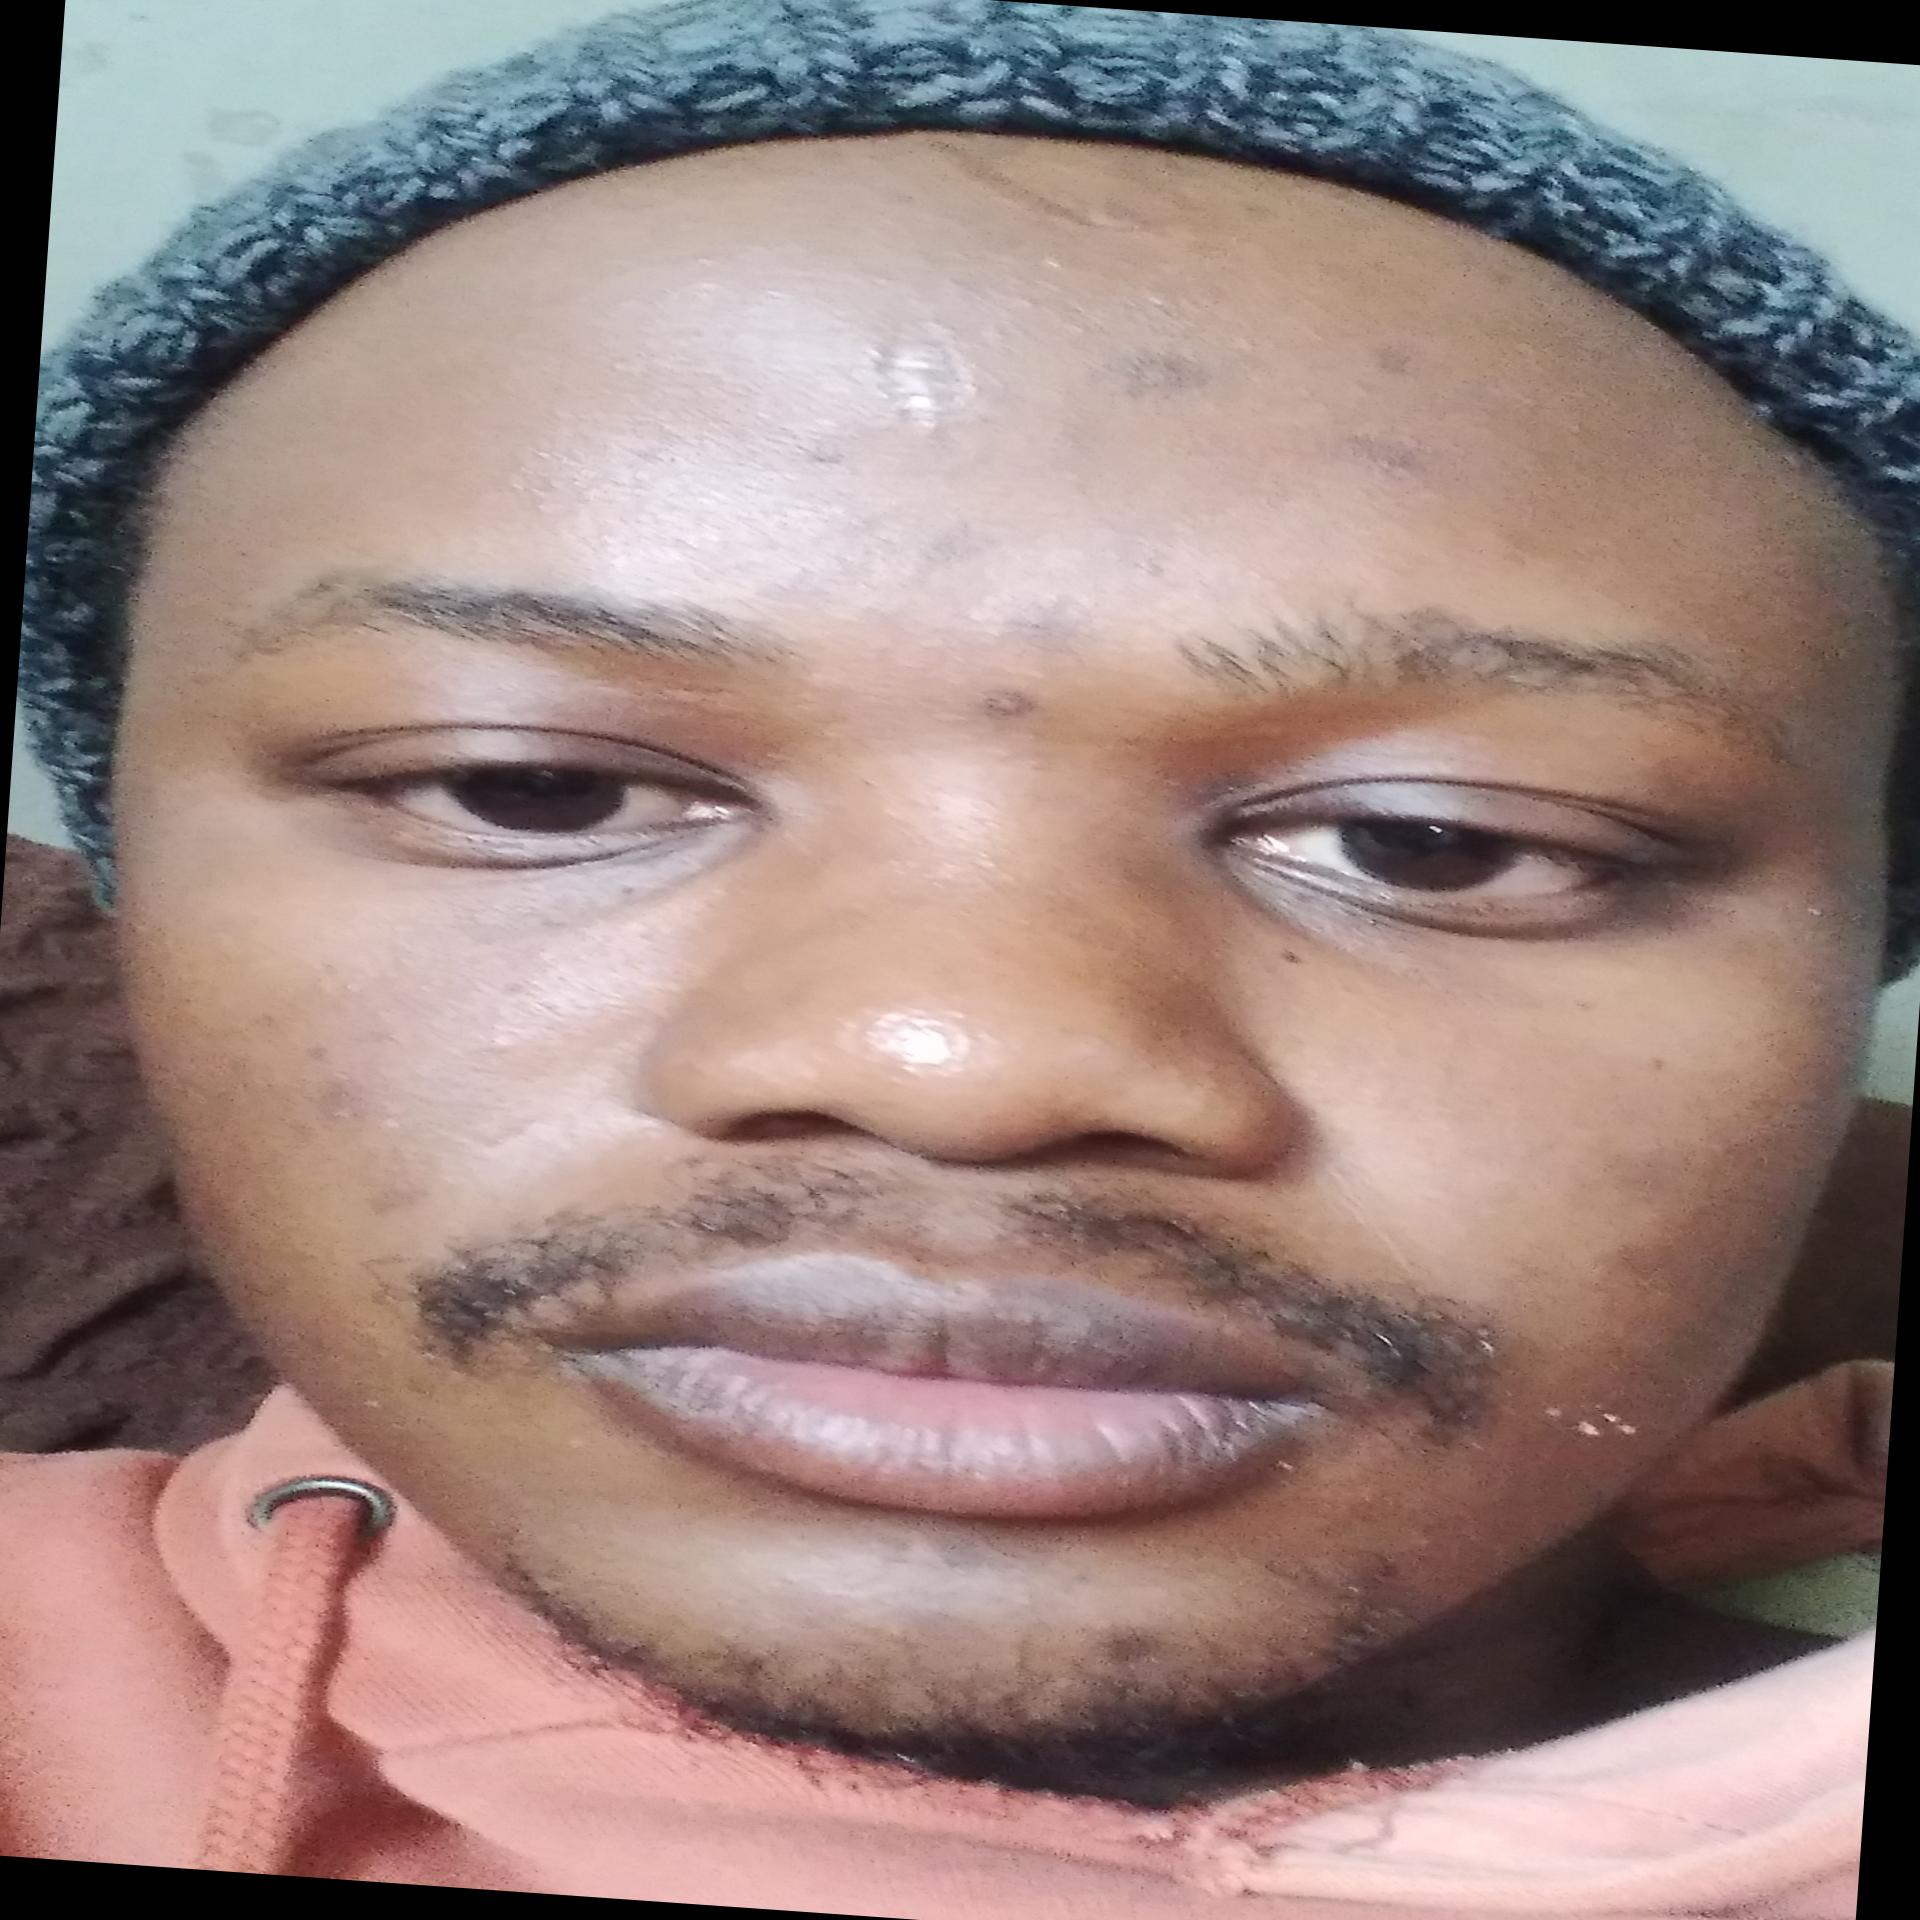Acne: (1094, 339, 1225, 410), (971, 587, 1090, 663), (902, 517, 1006, 587), (1342, 431, 1463, 489), (1095, 1619, 1166, 1676), (971, 679, 1051, 726), (1363, 338, 1435, 390), (311, 1071, 376, 1129), (464, 1023, 522, 1064), (302, 1032, 343, 1064), (250, 1000, 285, 1029)
Dark Circles: (1182, 828, 1725, 988), (287, 781, 777, 948)
